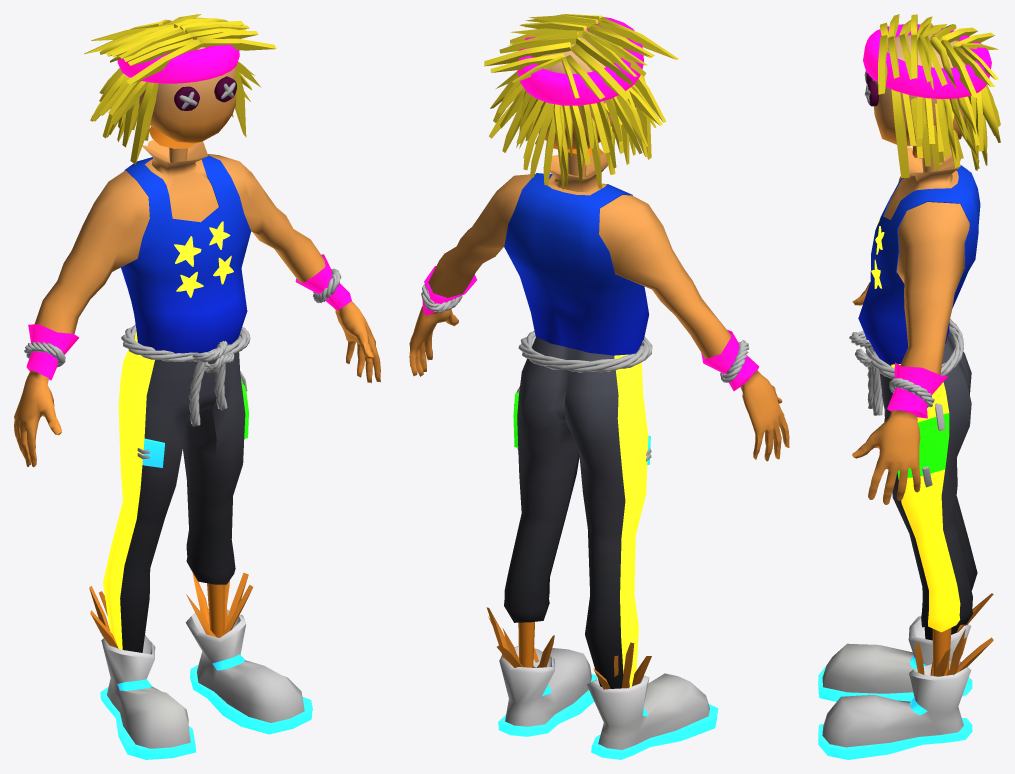
File: espantapajaro.fbx
3 renders of one model, left to right at view 1: azimuth 30°, elevation 25°; view 2: azimuth 150°, elevation 25°; view 3: azimuth 270°, elevation 25°, orthographic. The views are drawn at different scales.
Parts seen in each view (by area): view 1: cuerpo, botas, cabeza.001, cuerdas, bandacabeza, Text.001; view 2: cuerpo, cabeza.001, botas, bandacabeza, cuerdas; view 3: cuerpo, botas, cabeza.001, bandacabeza, cuerdas, Text.001.
Part boxes in pixels (bbox=[...]): cuerpo: bbox=[14, 140, 380, 652]; botas: bbox=[89, 572, 312, 759]; cabeza.001: bbox=[84, 14, 276, 164]; cuerdas: bbox=[24, 268, 341, 426]; bandacabeza: bbox=[117, 22, 239, 83]; Text.001: bbox=[174, 221, 233, 297]; cuerpo: bbox=[409, 152, 789, 688]; cabeza.001: bbox=[484, 14, 678, 189]; botas: bbox=[486, 607, 718, 759]; bandacabeza: bbox=[517, 17, 643, 105]; cuerdas: bbox=[421, 283, 748, 382]; cuerpo: bbox=[852, 147, 980, 675]; botas: bbox=[818, 593, 993, 759]; cabeza.001: bbox=[864, 14, 1000, 178]; bandacabeza: bbox=[863, 24, 991, 99]; cuerdas: bbox=[849, 318, 963, 415]; Text.001: bbox=[871, 220, 884, 288].
Bounding box in the file's own units: 166 × 308 × 74.72.
